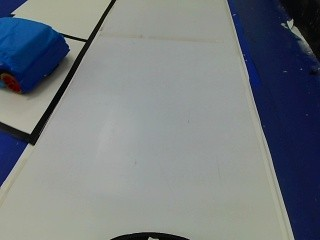car: (0, 11, 68, 95)
